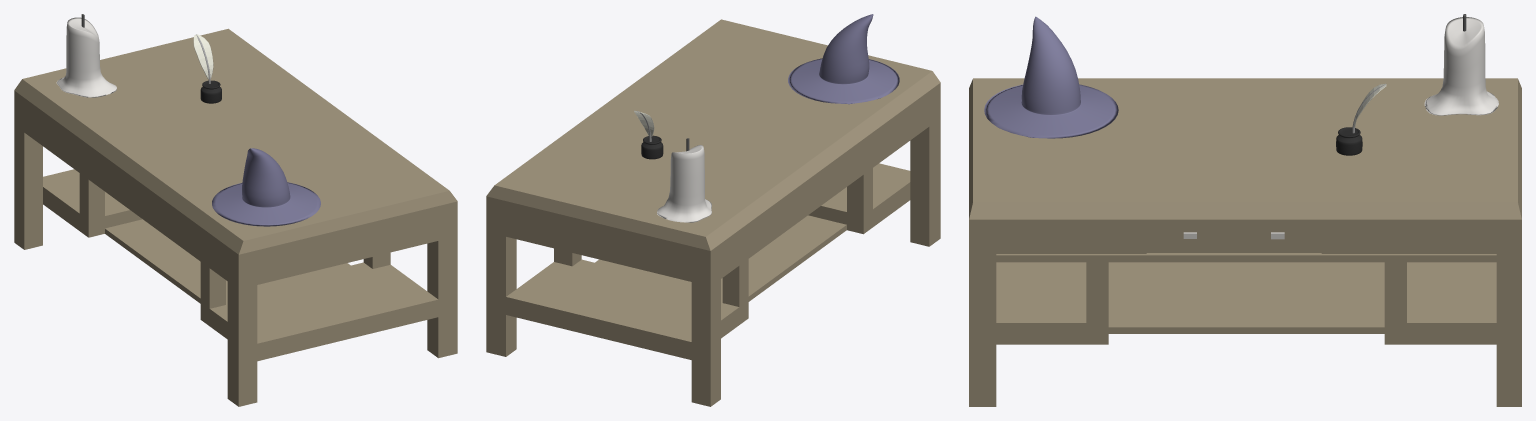
Rendered from Desk.fbx.
3 renders of one model, left to right at view 1: azimuth 30°, elevation 25°; view 2: azimuth 150°, elevation 25°; view 3: azimuth 270°, elevation 25°, orthographic. The views are drawn at different scales.
Parts seen in each view (by area): view 1: Table, Hat, Candle, Quill, Ink; view 2: Table, Hat, Candle, Ink; view 3: Table, Hat, Candle, Ink.
Boxes of the visible parts, x1,y1,x2,y2 form: Table: (14, 28, 457, 406); Hat: (212, 148, 320, 226); Candle: (56, 14, 116, 97); Quill: (193, 34, 213, 83); Ink: (200, 80, 221, 103); Table: (486, 19, 940, 406); Hat: (788, 14, 899, 104); Candle: (657, 138, 711, 222); Ink: (641, 135, 663, 159); Table: (969, 78, 1521, 406); Hat: (984, 16, 1118, 138); Candle: (1424, 14, 1498, 115); Ink: (1336, 127, 1362, 155).
Bounding box in the file's own units: 10.42 × 10.65 × 18.52.
